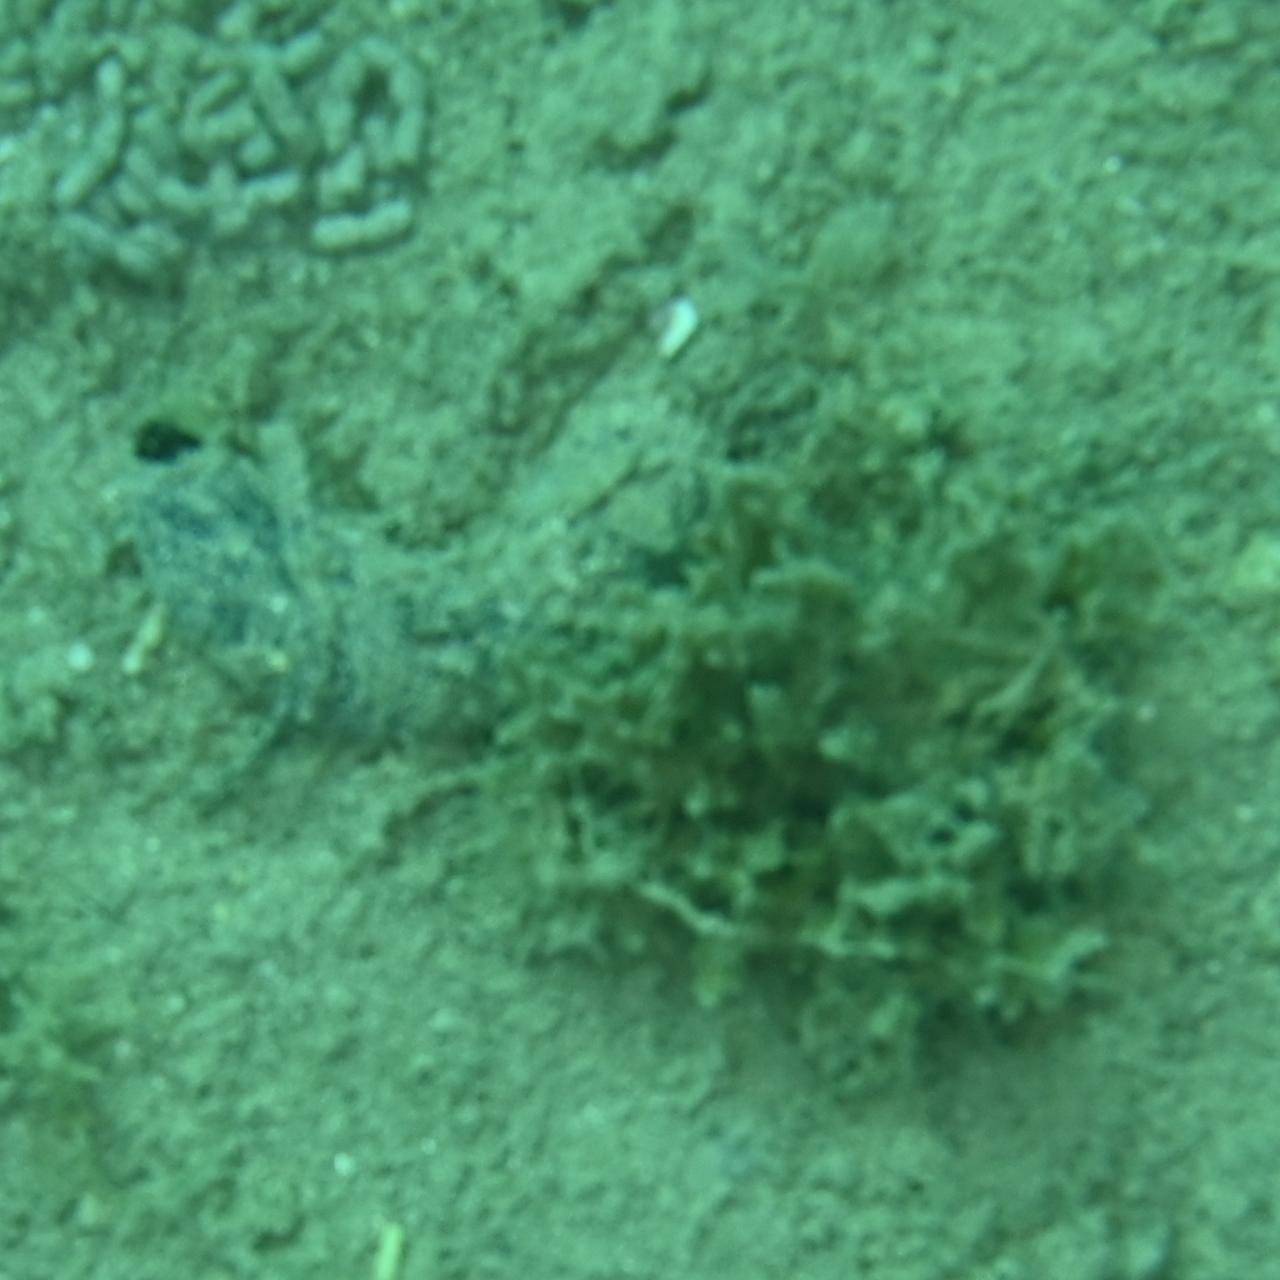Holothuria tubulosa: (97, 275, 787, 794)
Phaeophyceae -cfr Cystoseira-: (520, 366, 1157, 1126)
